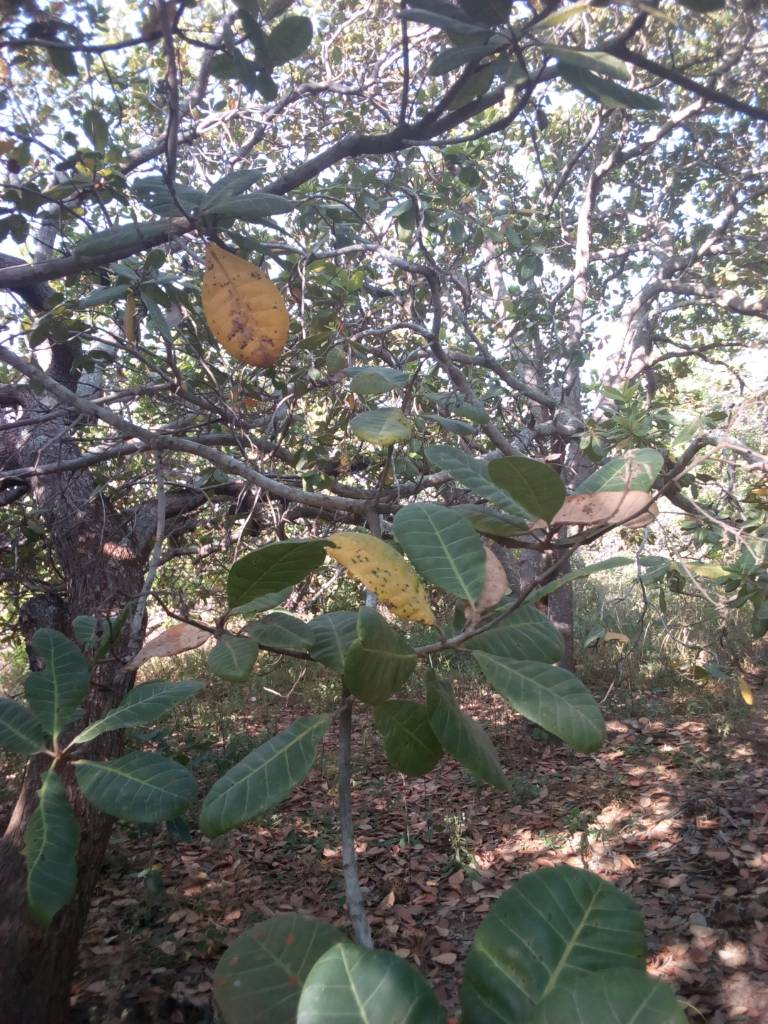Anthracnose: (200, 233, 288, 378), (329, 530, 436, 632), (547, 483, 660, 528)
